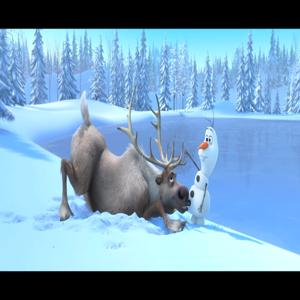olaf: (189, 116, 227, 238)
sven: (56, 100, 190, 233)
